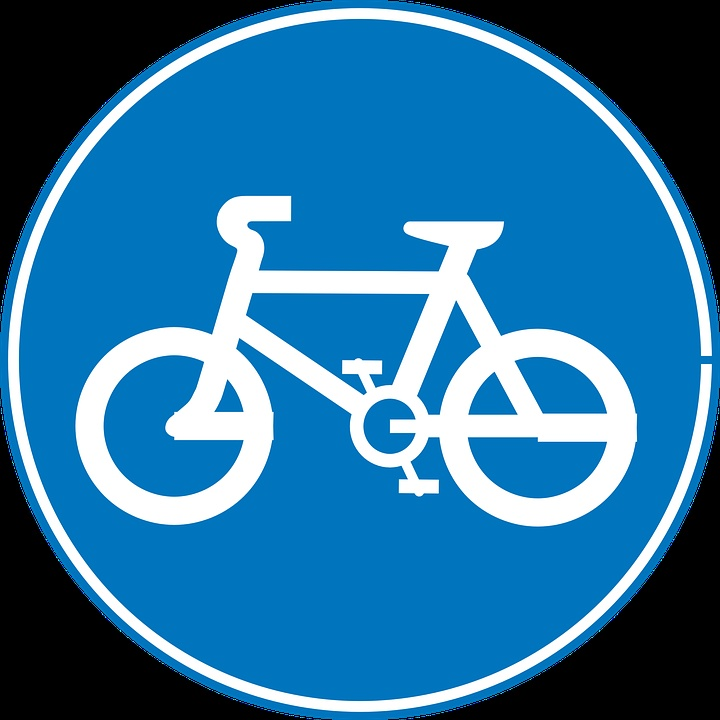bicycle: (71, 195, 637, 529)
